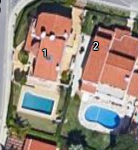pool: (87, 106, 119, 126), (23, 94, 54, 113)
